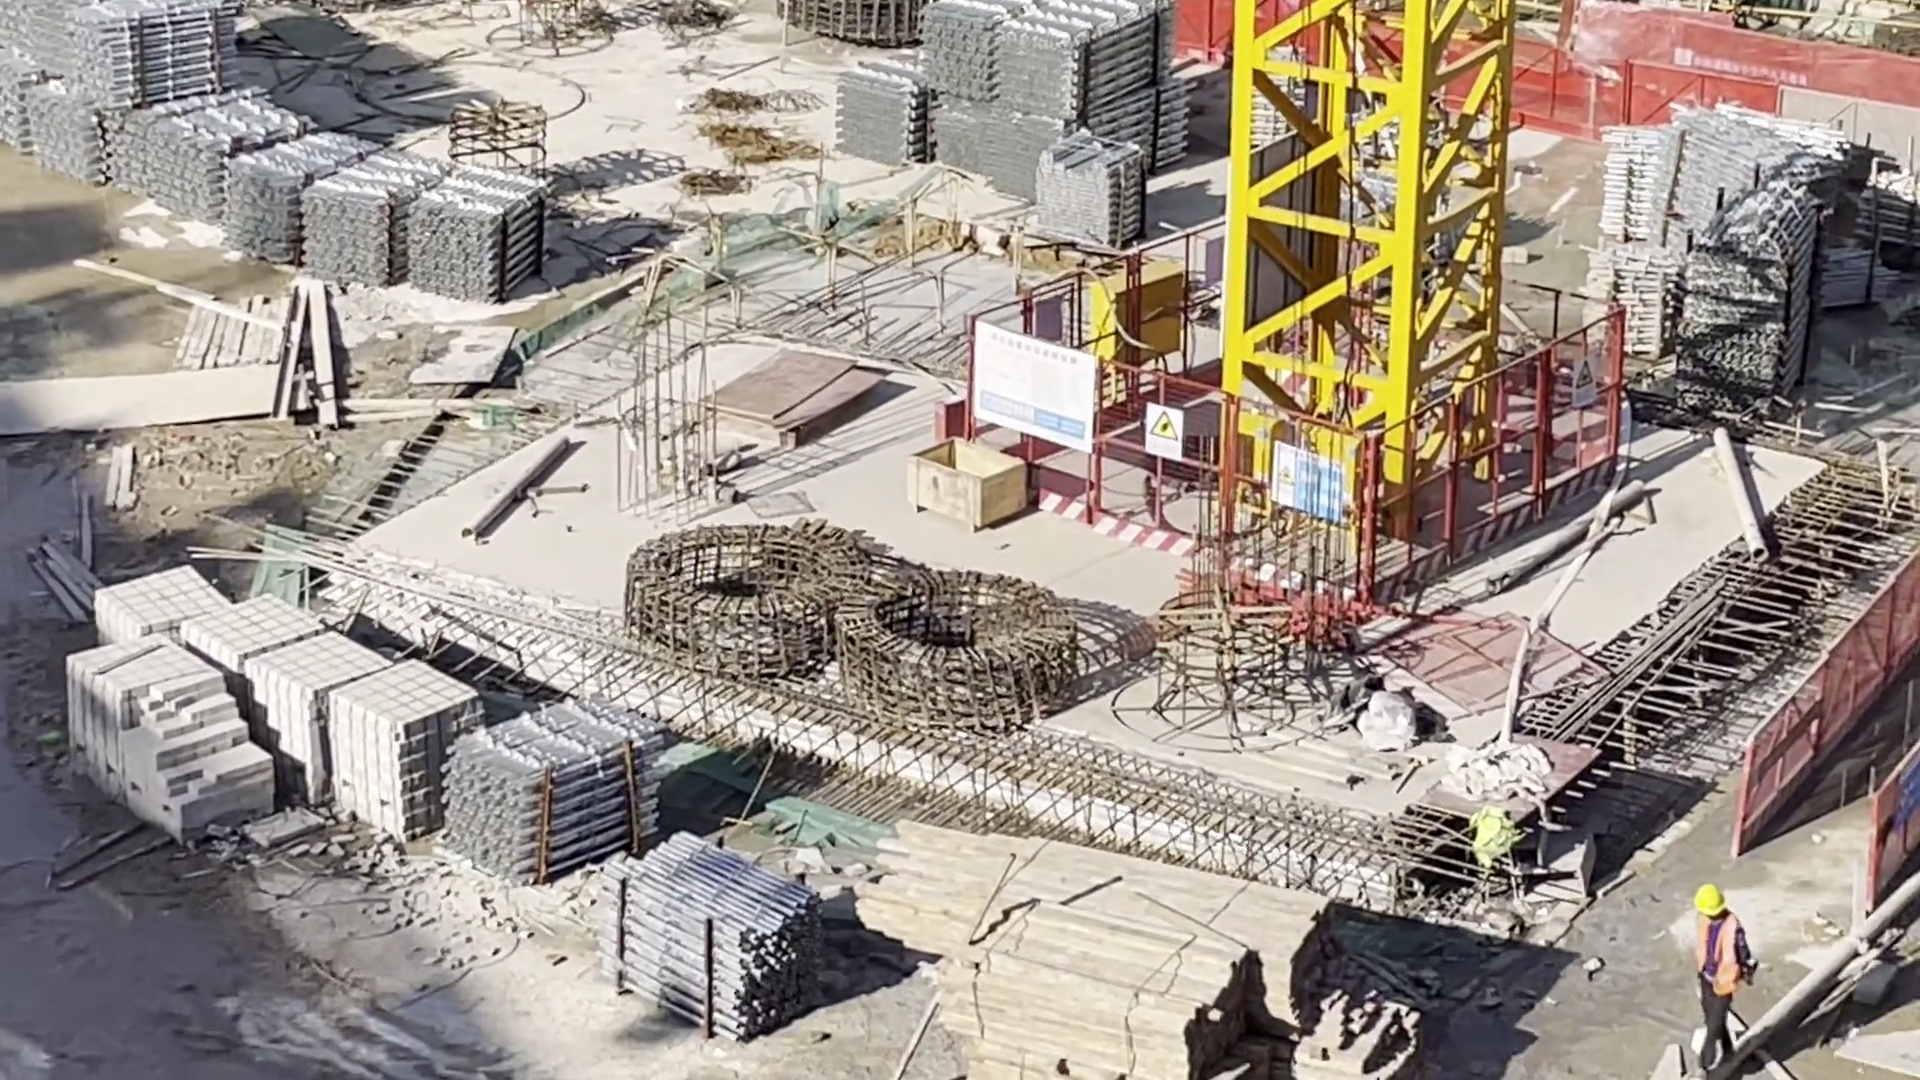board: (708, 354, 879, 435)
brick: (79, 583, 442, 845)
ebox: (1092, 269, 1185, 370)
fence: (1751, 560, 1920, 873), (1523, 26, 1920, 156)
helmet: (1697, 881, 1727, 915)
person: (1692, 883, 1744, 1073)
scaffold: (1593, 127, 1815, 396), (923, 1, 1182, 192), (609, 834, 820, 1039), (1, 1, 235, 187), (450, 696, 663, 879), (300, 150, 550, 304), (228, 131, 382, 266), (159, 97, 316, 219), (1039, 134, 1146, 246), (843, 39, 935, 164), (1862, 172, 1920, 234)
slogan: (1275, 445, 1346, 531), (1148, 401, 1178, 461), (1571, 358, 1598, 412), (1898, 762, 1920, 825)
vest: (1688, 912, 1743, 1000)
wood: (874, 827, 1327, 1029), (956, 916, 1262, 1079)
